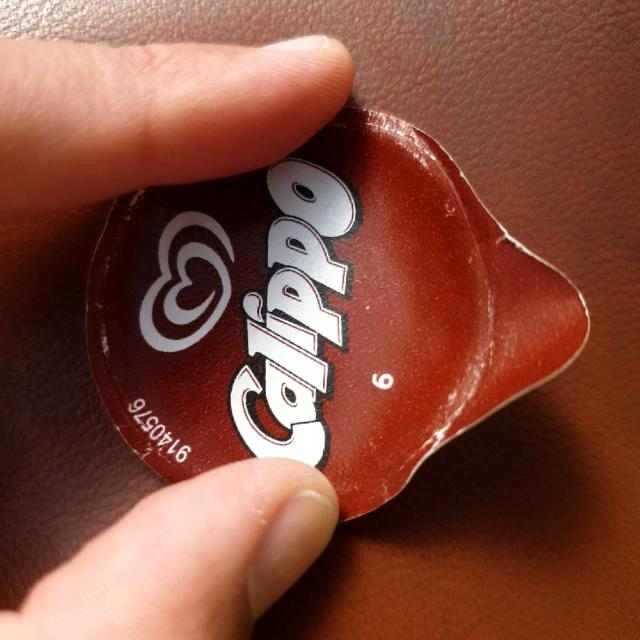Paper: (81, 101, 594, 525)
